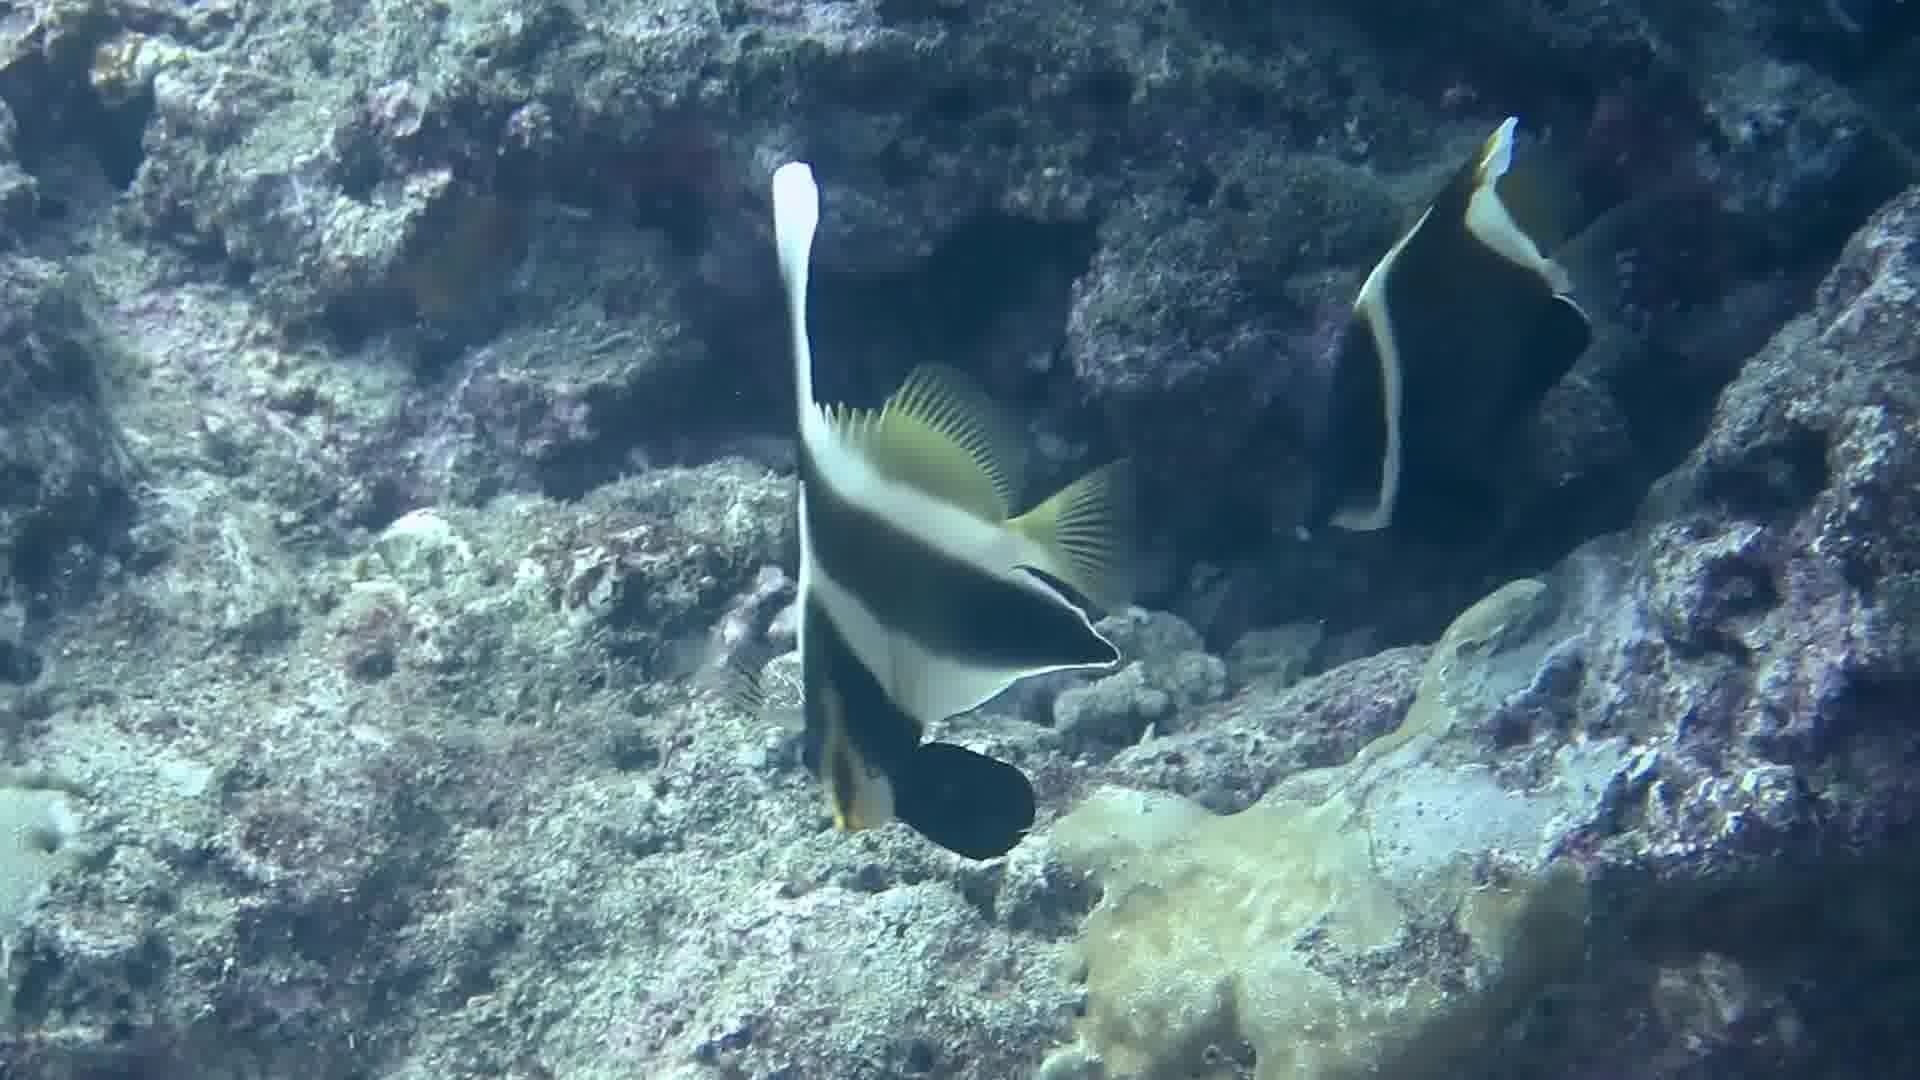Heniochus chrysostomus: (696, 105, 1160, 889), (1242, 41, 1691, 669)
